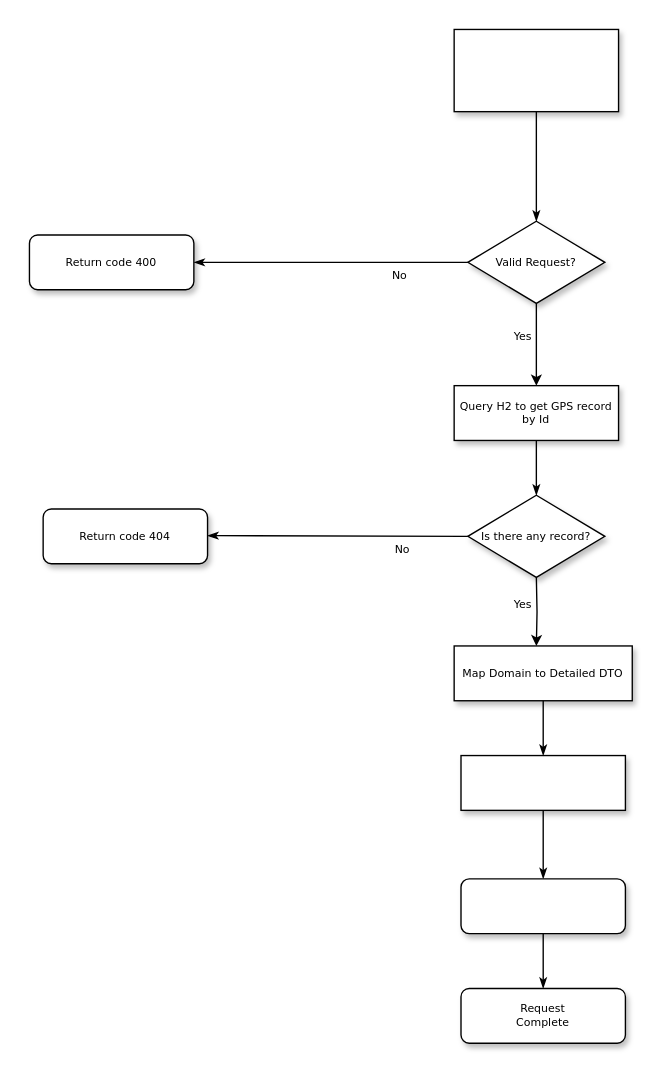
Some shapes in this 664 by 1077 pixel diagram are drawn without their labels. The centre of each missing label's shape, as x and y in pixels:
"API Endpoint GET /gpx/{trackId}" goes at point 537,72.
"Convert DTO to gpx file and write gpx file to request's output stream" goes at point 544,784.
"Return code 200" goes at point 544,907.
